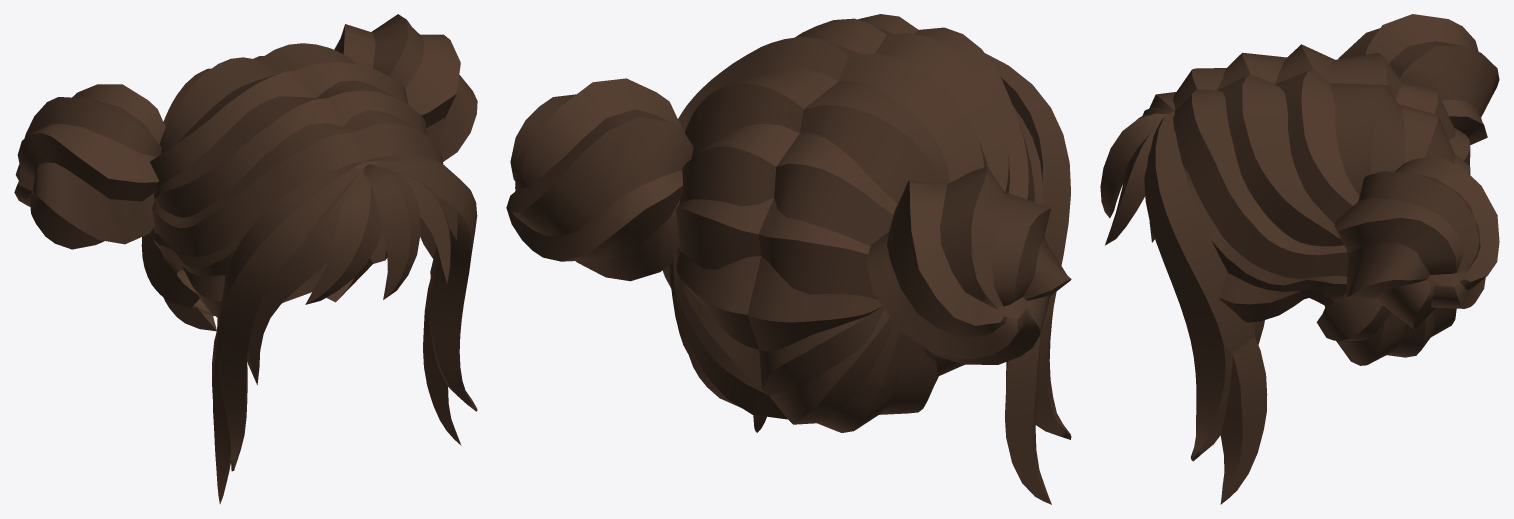
The model's file is hair-buns.glb.
3 views of the same model, side by side, from view 1: azimuth 30°, elevation 25°; view 2: azimuth 150°, elevation 25°; view 3: azimuth 270°, elevation 25° (orthographic). The views are drawn at different scales.
Visible parts, largest first — view 1: Hair_Buns; view 2: Hair_Buns; view 3: Hair_Buns.
Boxes of the visible parts, x1,y1,x2,y2 form: Hair_Buns: (14, 14, 477, 504); Hair_Buns: (506, 14, 1071, 504); Hair_Buns: (1100, 14, 1499, 504).
Bounding box in the file's own units: 0.3015 × 0.2491 × 0.2368.
